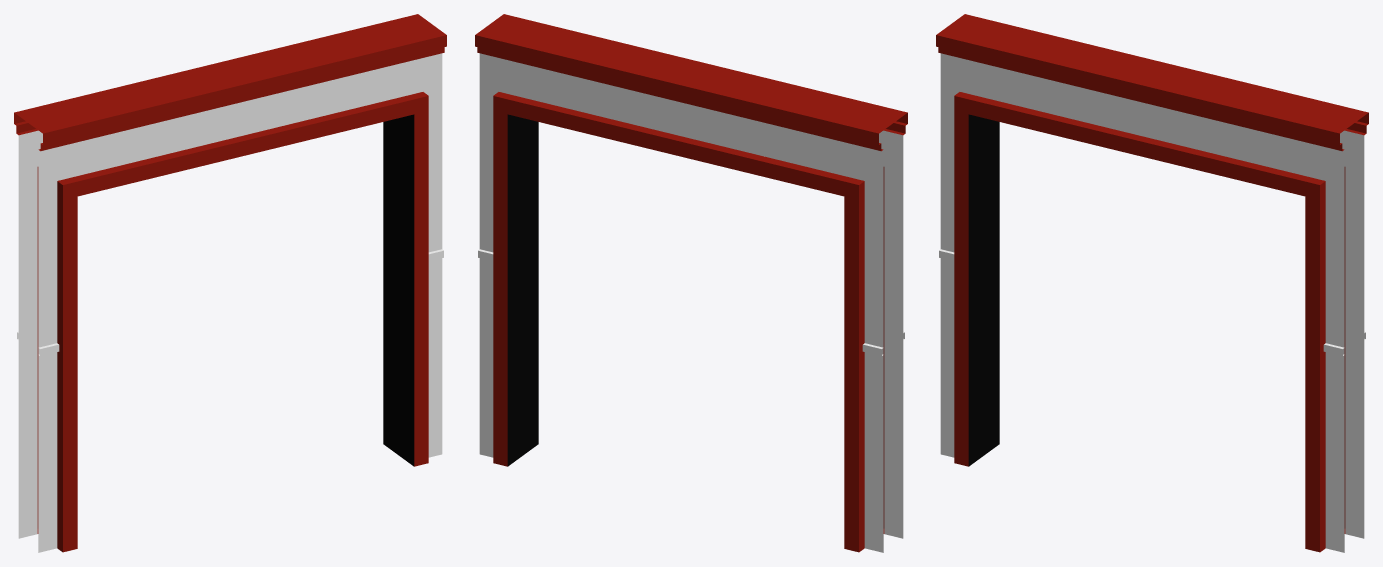
File: SM_Wall_Door_3x3_02.fbx
3 views of the same model, side by side, from view 1: azimuth 30°, elevation 25°; view 2: azimuth 150°, elevation 25°; view 3: azimuth 330°, elevation 25° (orthographic).
Parts seen in each view (by area): view 1: SM_Wall_Door_3x3_02, Up_Wall_006, Down_Wall_006, Up_Wall_005, Down_Wall_005; view 2: SM_Wall_Door_3x3_02, Up_Wall_005, Down_Wall_005, Up_Wall_006, Down_Wall_006; view 3: SM_Wall_Door_3x3_02, Up_Wall_006, Down_Wall_006, Up_Wall_005, Down_Wall_005.
Boxes of the visible parts, <box> form: SM_Wall_Door_3x3_02: <box>14,14,446,552</box>; Up_Wall_006: <box>38,53,442,350</box>; Down_Wall_006: <box>38,258,442,552</box>; Up_Wall_005: <box>18,130,42,336</box>; Down_Wall_005: <box>18,332,37,538</box>; SM_Wall_Door_3x3_02: <box>475,14,907,552</box>; Up_Wall_005: <box>479,53,883,350</box>; Down_Wall_005: <box>479,258,883,552</box>; Up_Wall_006: <box>879,130,903,336</box>; Down_Wall_006: <box>884,332,903,538</box>; SM_Wall_Door_3x3_02: <box>936,14,1368,552</box>; Up_Wall_006: <box>940,53,1344,350</box>; Down_Wall_006: <box>940,258,1344,552</box>; Up_Wall_005: <box>1340,130,1364,336</box>; Down_Wall_005: <box>1345,332,1364,538</box>.
Bounding box in the file's own units: 118 × 118 × 15.53.
